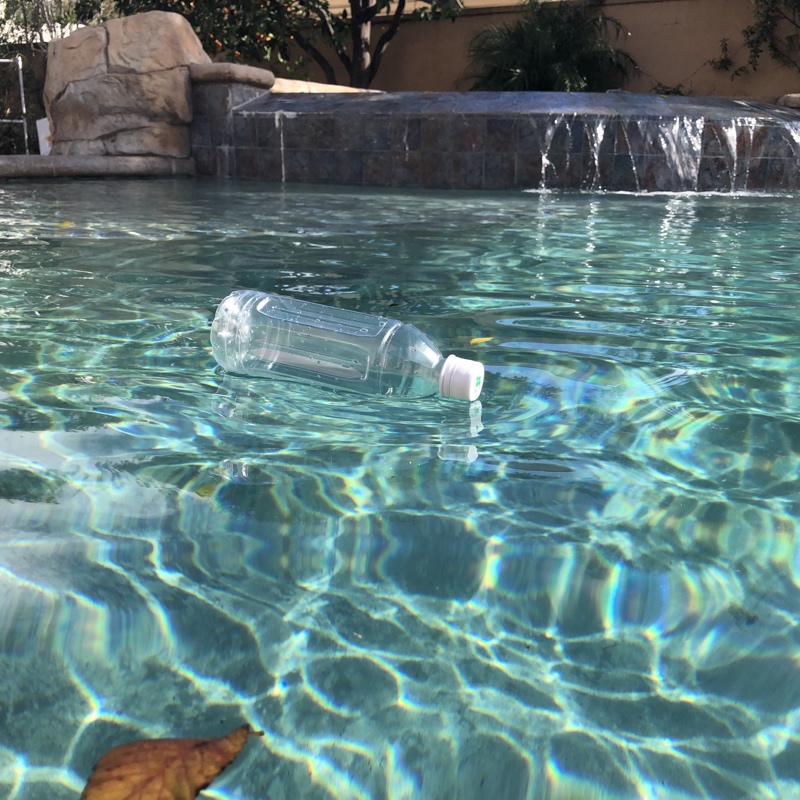Plastic Bottle: (207, 280, 492, 408)
